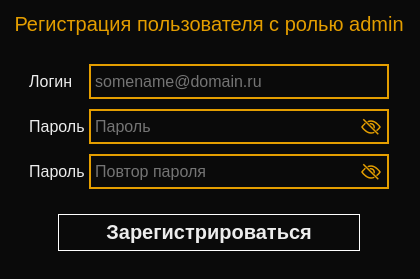
it: RegisterForm unauthenticated user › submit формы невозможен, так как отсутствует сессия
The image size is (420, 279).
Type "test@mail.com" into the field with placeholder "somename@domain.ru" at (239, 82), box left=95, top=66, right=383, bottom=97
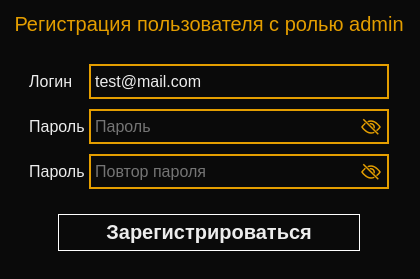
Type "Password1" into the password field with placeholder "Пароль" at (239, 126), box left=95, top=111, right=383, bottom=142
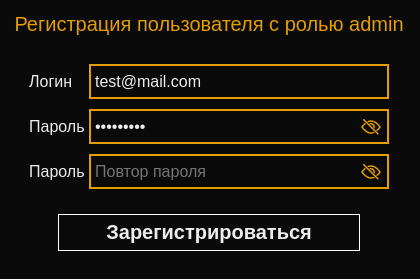
Type "Password1" into the password field with placeholder "Повтор пароля" at (239, 172), box left=95, top=156, right=383, bottom=187
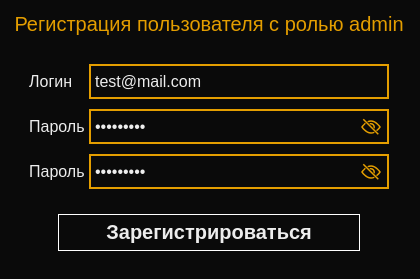
Click the button "Зарегистрироваться" at (209, 232), box left=58, top=214, right=360, bottom=251
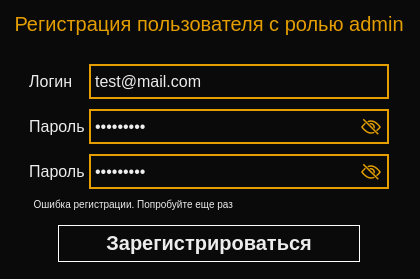
Result: the text "Ошибка регистрации. Попробуйте еще раз" is shown at left=34, top=199, right=233, bottom=210
